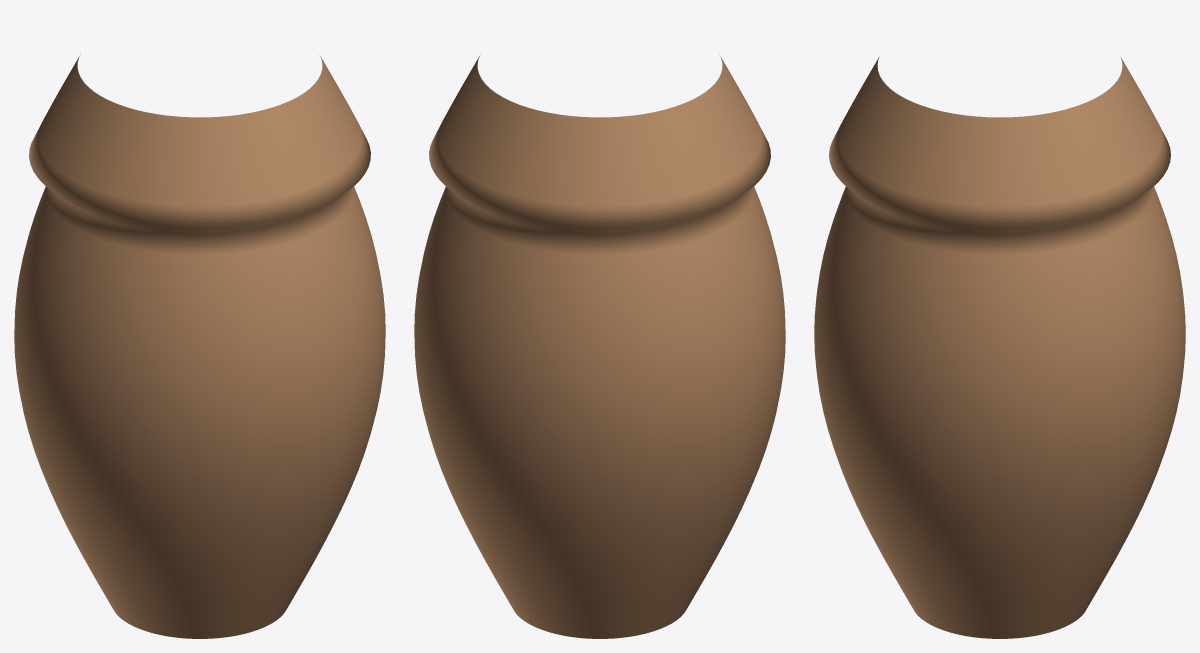
The model's file is vase.glb.
3 views of the same model, side by side, from view 1: azimuth 30°, elevation 25°; view 2: azimuth 150°, elevation 25°; view 3: azimuth 270°, elevation 25° (orthographic).
Bounding box in the file's own units: 0.88 × 1.4 × 0.88.
